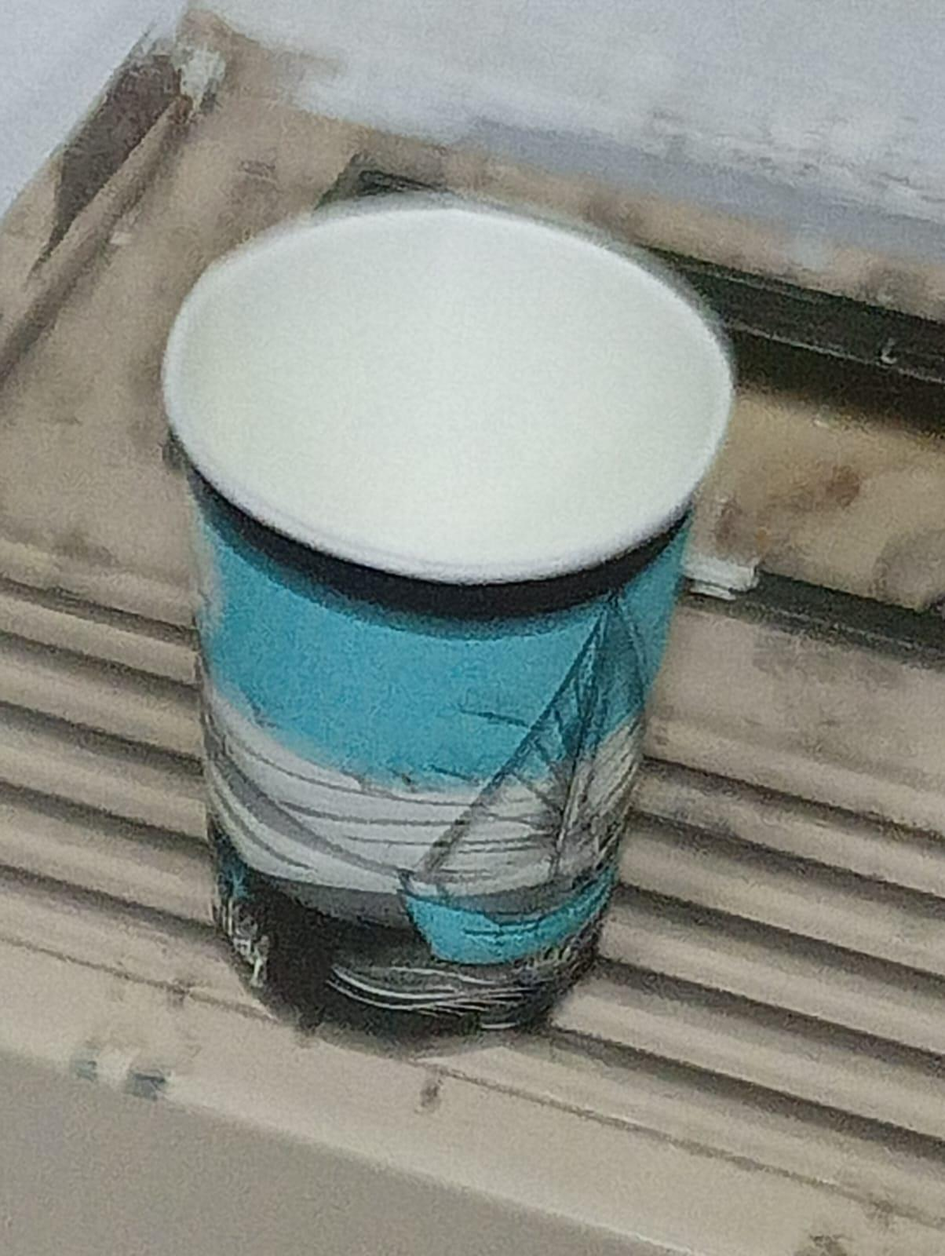cup: (162, 189, 733, 1028), (165, 210, 728, 563)
